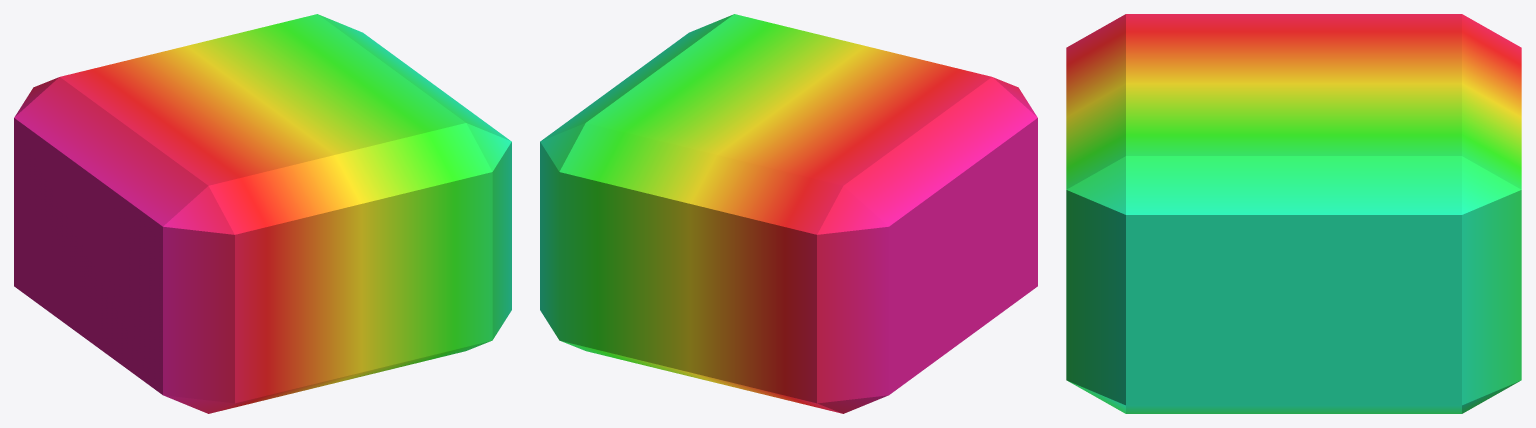
Rendered from Prismatic Shard.fbx.
3 views of the same model, side by side, from view 1: azimuth 30°, elevation 25°; view 2: azimuth 150°, elevation 25°; view 3: azimuth 270°, elevation 25° (orthographic). The views are drawn at different scales.
Visible parts, largest first — view 1: PRISMATIC SHARD.001; view 2: PRISMATIC SHARD.001; view 3: PRISMATIC SHARD.001.
Boxes of the visible parts, left/top/right/bottom form: PRISMATIC SHARD.001: left=14, top=14, right=511, bottom=413; PRISMATIC SHARD.001: left=540, top=14, right=1037, bottom=413; PRISMATIC SHARD.001: left=1066, top=14, right=1521, bottom=413.
Size of the model in its own units: 183 by 115 by 183.
1 material, 1 textured.
